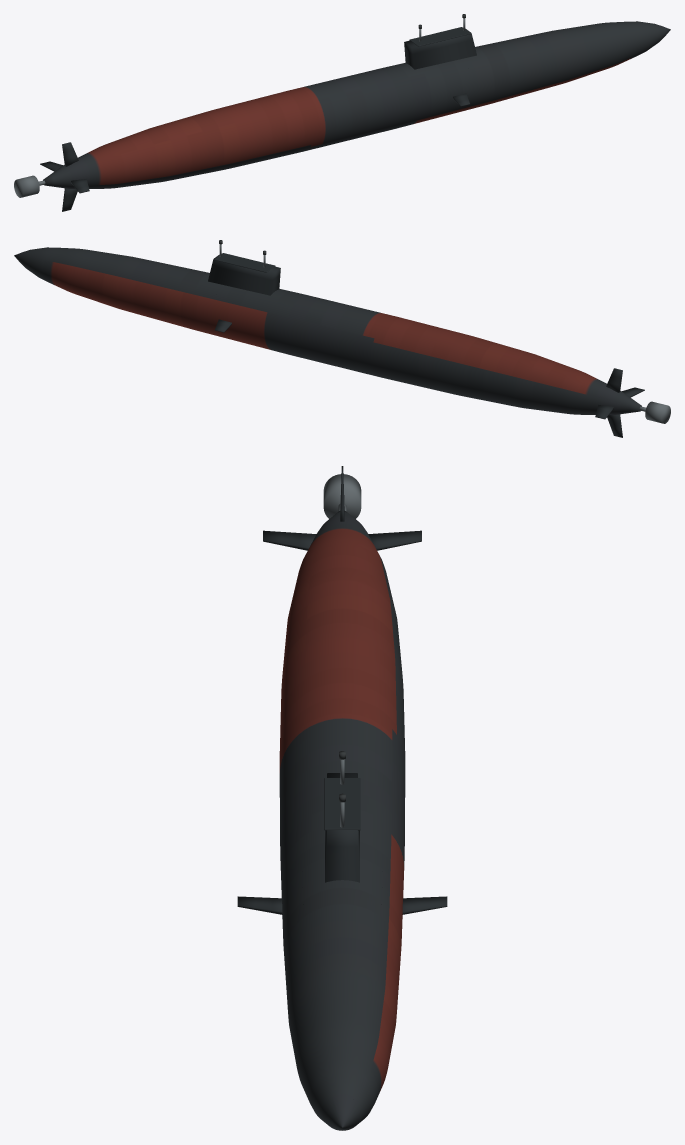
Rendered from US_SSN_Virginia.glb.
3 renders of one model, top to bottom at view 1: azimuth 30°, elevation 25°; view 2: azimuth 150°, elevation 25°; view 3: azimuth 270°, elevation 25°, orthographic. The views are drawn at different scales.
Parts seen in each view (by area): view 1: US_SSN_Virginia_LOD0; view 2: US_SSN_Virginia_LOD0; view 3: US_SSN_Virginia_LOD0.
Boxes of the visible parts, left/top/right/bottom form: US_SSN_Virginia_LOD0: left=14, top=14, right=670, bottom=211; US_SSN_Virginia_LOD0: left=14, top=240, right=670, bottom=437; US_SSN_Virginia_LOD0: left=237, top=466, right=447, bottom=1130.
Size of the model in its own units: 120 by 17.36 by 16.66.
Materials: 6 (1 with a texture image).
